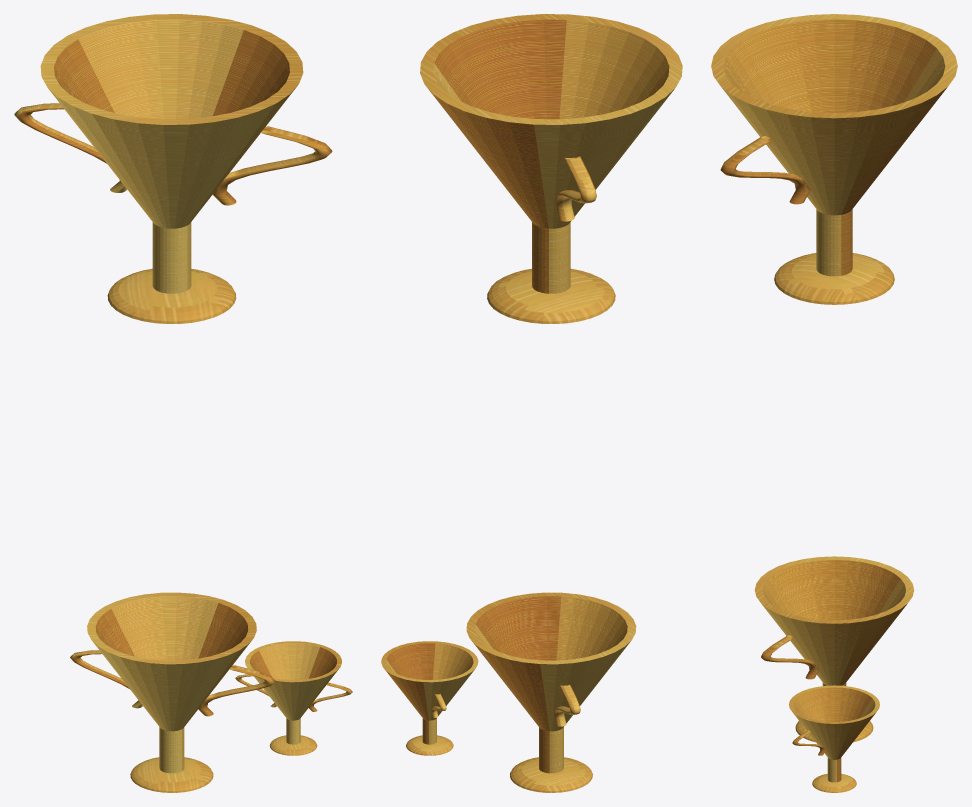
File: Trofeos.obj
The picture shows the model from 3 angles, left to right: view 1: azimuth 30°, elevation 25°; view 2: azimuth 150°, elevation 25°; view 3: azimuth 270°, elevation 25°; orthographic projection. The views are drawn at different scales.
Visible parts, largest first — view 1: Esfera.001_Esfera.005, Esfera.002_Esfera.006, Esfera.003_Esfera.007; view 2: Esfera.001_Esfera.005, Esfera.002_Esfera.006, Esfera.003_Esfera.007; view 3: Esfera.001_Esfera.005, Esfera.002_Esfera.006, Esfera.003_Esfera.007.
Part boxes in pixels (left/top/right/bottom): Esfera.001_Esfera.005: left=14, top=14, right=332, bottom=323; Esfera.002_Esfera.006: left=70, top=592, right=275, bottom=792; Esfera.003_Esfera.007: left=235, top=641, right=352, bottom=755; Esfera.001_Esfera.005: left=420, top=14, right=682, bottom=323; Esfera.002_Esfera.006: left=466, top=592, right=636, bottom=792; Esfera.003_Esfera.007: left=381, top=641, right=478, bottom=755; Esfera.001_Esfera.005: left=711, top=14, right=957, bottom=304; Esfera.002_Esfera.006: left=754, top=556, right=914, bottom=742; Esfera.003_Esfera.007: left=789, top=685, right=879, bottom=792.
Bounding box in the file's own units: 3.15 × 7.66 × 2.59.
3 materials, 3 textured.
